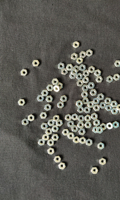nut: (91, 168, 99, 175), (58, 163, 66, 170), (100, 158, 107, 166), (62, 129, 70, 136), (38, 139, 46, 146), (41, 123, 49, 130), (53, 115, 60, 123), (77, 122, 85, 129), (76, 101, 84, 108), (82, 85, 90, 92), (37, 95, 45, 102), (54, 85, 61, 93), (32, 60, 40, 67), (66, 64, 74, 71), (80, 51, 87, 59), (73, 41, 80, 49), (98, 143, 105, 150), (48, 148, 55, 155), (80, 138, 87, 145), (68, 133, 75, 140), (47, 140, 54, 147), (43, 134, 50, 141), (46, 129, 53, 136), (52, 126, 59, 133), (48, 120, 55, 127), (56, 120, 63, 127), (113, 122, 120, 129), (107, 123, 114, 130), (97, 127, 104, 134), (93, 127, 100, 134), (79, 129, 86, 136), (72, 126, 79, 133), (68, 121, 75, 128), (85, 122, 92, 129), (94, 120, 101, 127), (91, 113, 98, 120), (85, 115, 92, 122), (72, 114, 79, 121), (65, 115, 72, 122), (28, 115, 35, 122), (22, 119, 29, 126), (112, 108, 119, 115), (106, 105, 113, 112), (111, 101, 118, 108), (105, 98, 112, 105), (94, 105, 101, 112), (93, 98, 100, 105), (98, 94, 105, 101), (45, 104, 52, 111), (46, 96, 53, 103), (42, 90, 49, 97), (47, 85, 54, 92), (77, 80, 84, 87), (21, 69, 28, 76), (107, 76, 114, 83), (95, 70, 102, 77), (89, 67, 96, 74), (76, 73, 83, 80), (83, 70, 90, 77), (71, 69, 78, 76), (73, 66, 80, 73), (58, 63, 65, 70), (54, 157, 62, 163), (87, 139, 93, 147), (18, 100, 26, 106), (74, 137, 80, 144), (52, 135, 59, 141), (101, 124, 107, 131), (78, 116, 85, 122), (40, 113, 47, 119), (100, 103, 107, 109), (85, 107, 91, 114), (78, 107, 84, 114), (88, 102, 95, 108), (83, 98, 90, 104), (82, 92, 89, 98), (90, 90, 97, 96), (88, 83, 95, 89), (58, 102, 64, 109), (61, 96, 68, 102), (52, 79, 59, 85), (114, 74, 120, 81), (96, 77, 103, 83), (83, 77, 89, 84), (80, 65, 86, 72), (70, 73, 77, 79), (62, 69, 68, 76), (77, 58, 84, 64), (72, 53, 78, 60), (87, 50, 93, 57), (57, 83, 63, 89), (115, 61, 120, 68), (117, 105, 120, 111)
